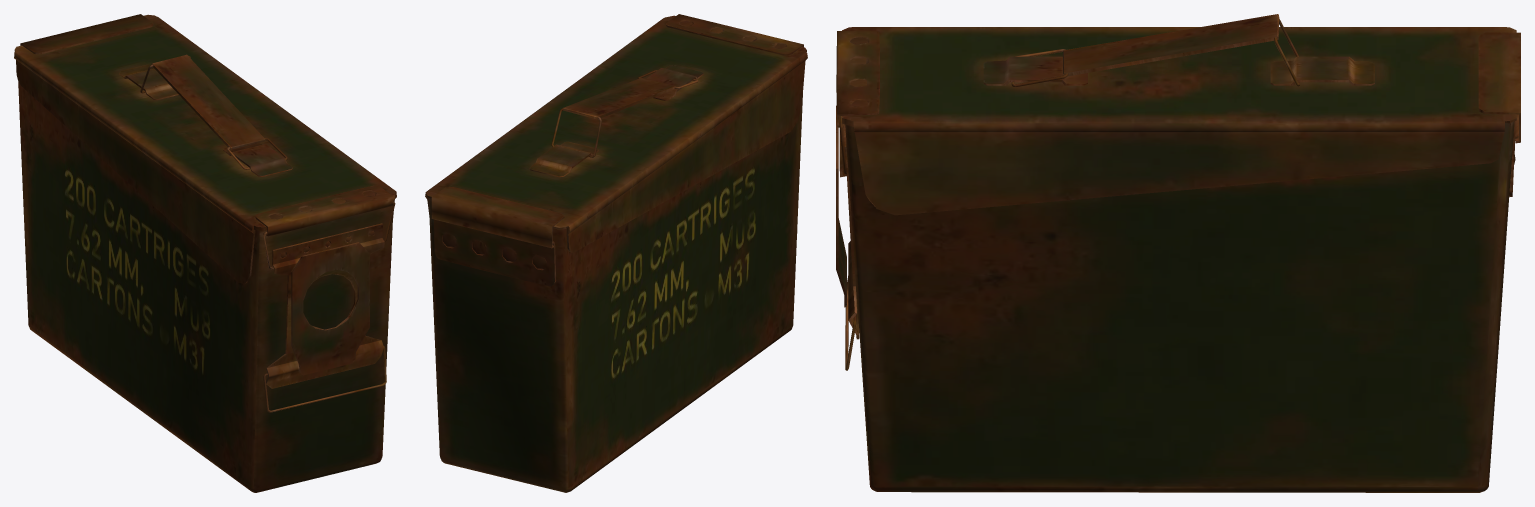
File: ammo_box.glb
The picture shows the model from 3 angles, left to right: view 1: azimuth 30°, elevation 25°; view 2: azimuth 150°, elevation 25°; view 3: azimuth 270°, elevation 25°; orthographic projection. The views are drawn at different scales.
Visible parts, largest first — view 1: ammo_box, ammo_box_handle, ammo_box_latch; view 2: ammo_box, ammo_box_handle; view 3: ammo_box, ammo_box_handle.
Part boxes in pixels (x1=…): ammo_box: x1=14, y1=14, x2=396, y2=492; ammo_box_handle: x1=151, y1=54, x2=265, y2=149; ammo_box_latch: x1=263, y1=346, x2=386, y2=412; ammo_box: x1=425, y1=14, x2=807, y2=492; ammo_box_handle: x1=563, y1=78, x2=675, y2=119; ammo_box: x1=836, y1=27, x2=1520, y2=492; ammo_box_handle: x1=1063, y1=14, x2=1279, y2=76.
Size of the model in its own units: 0.0864 by 0.1773 by 0.2576.
1 material, 1 textured.
